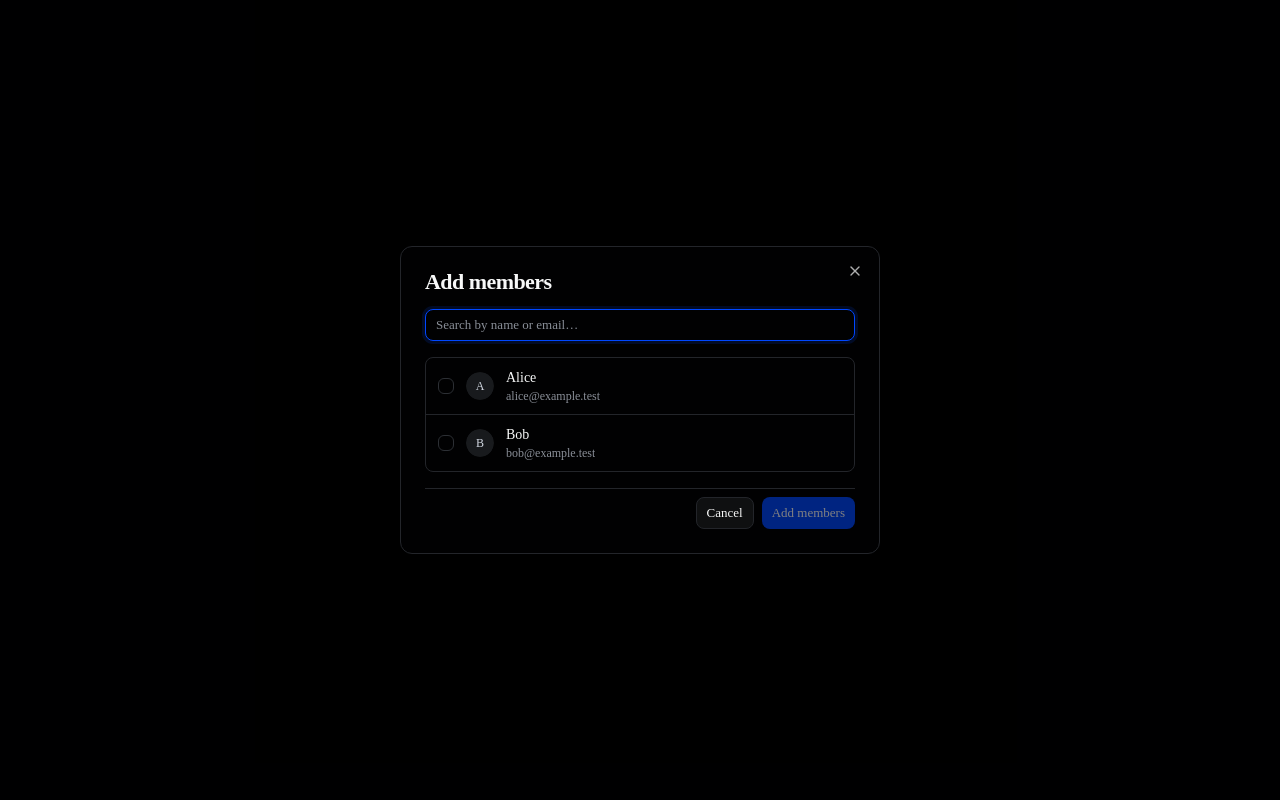
Test case: AddGroupMembersDialog › shows inline error and keeps dialog open on failure
The image size is (1280, 800).
Click the text "Alice". click: {"x": 521, "y": 378}
box: [506,370,536,385]
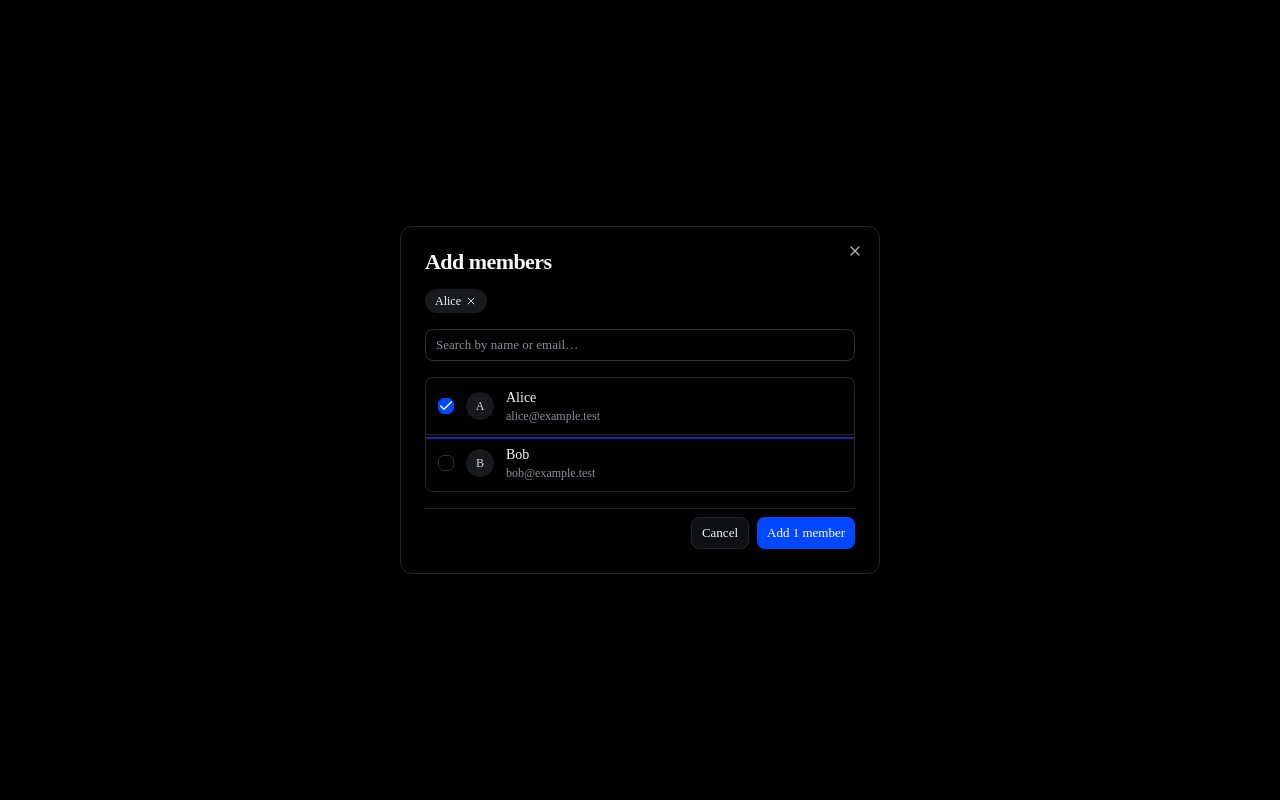
Click the button "Add 1 member". click: {"x": 806, "y": 533}
box: [757,517,855,549]
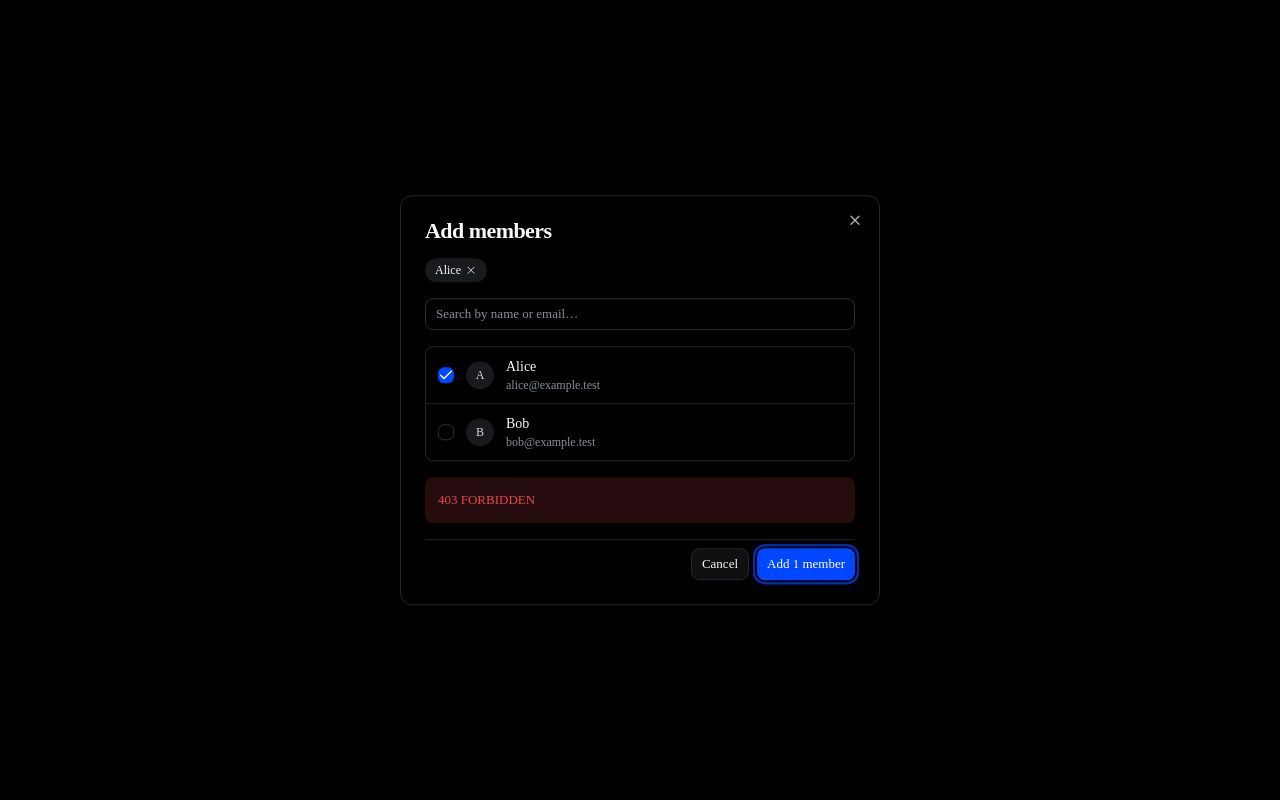
Now the message "403 FORBIDDEN" is shown, box [425,477,855,523]
